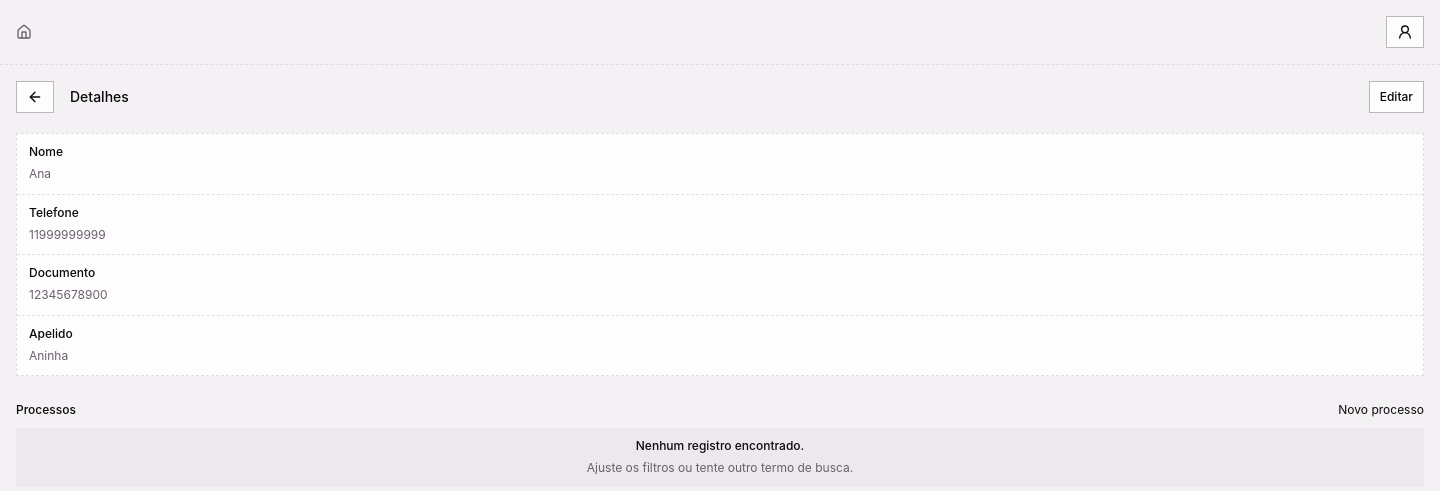
Scenario: CustomerDetailsPage — edit mode (T24, WEB-06) › WEB-06 AC1: edit mode pre-fills core + values from the loaded record
Check: the text "Ana" is shown, box [29,166,51,181]
What coordinates should you click on to do the following:
click the button "Editar"
I would click on:
 (1396, 97)
Its box is [1369,81,1424,113].
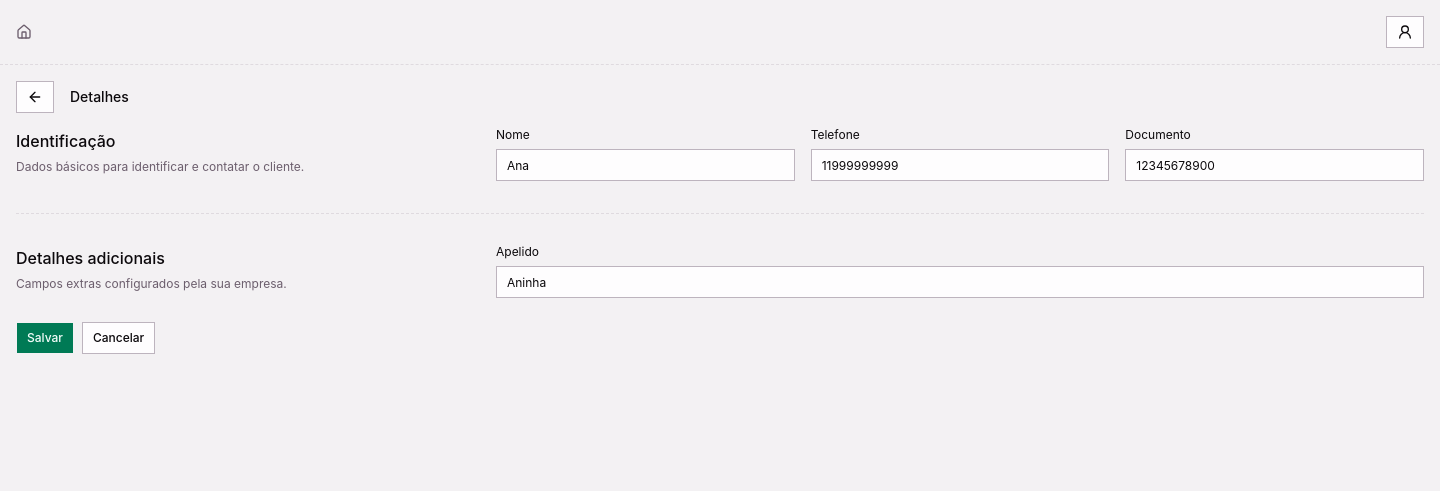
Check: the field labelled "Nome" holds "Ana", box [496,149,795,181]
Check: the field labelled "Telefone" holds "11999999999", box [811,149,1109,181]
Check: the field labelled "Documento" holds "12345678900", box [1125,149,1424,181]
